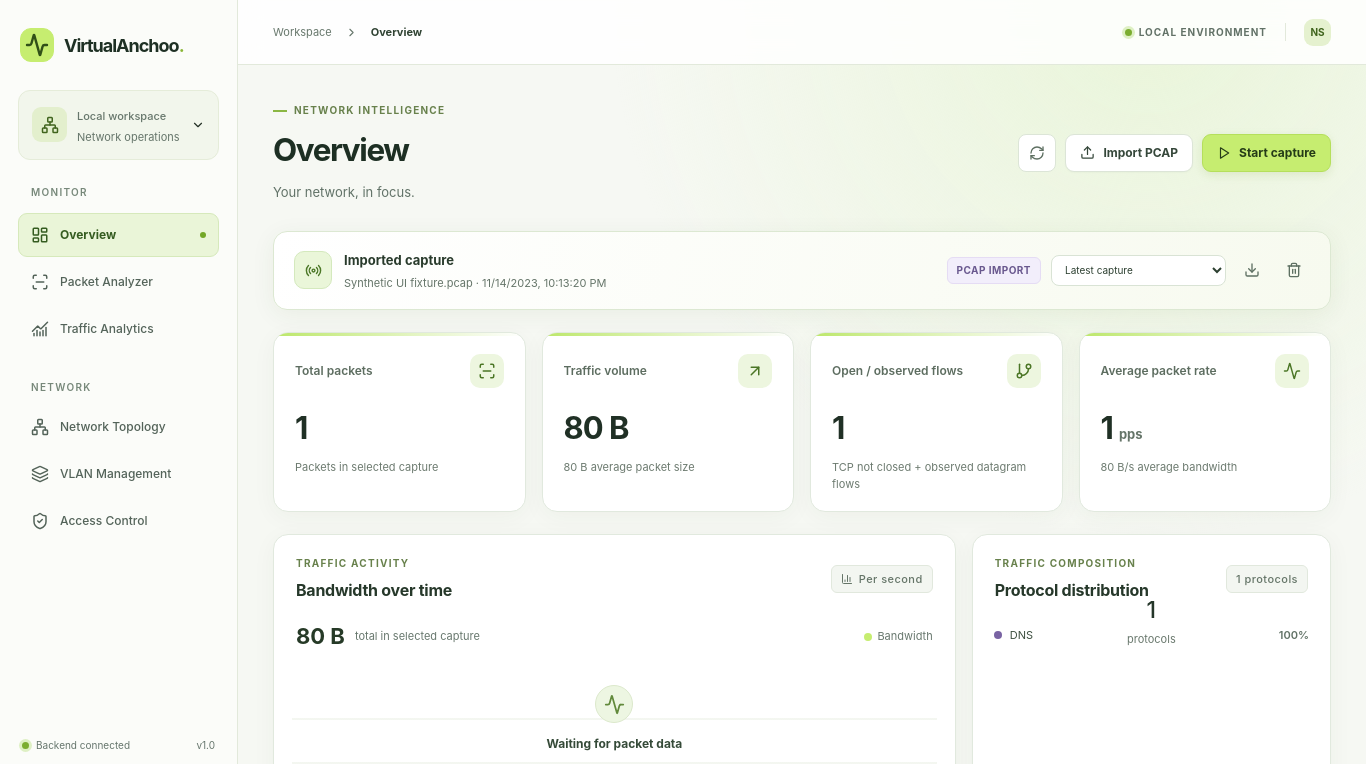
dashboard API contracts › requires consent and displays capture permission failure
This screenshot has width=1366, height=764.
Expected: the text "Backend connected" is shown, [36,738,130,753]
Click the button "Start capture". click: (1266, 153)
box: [1202,134,1331,172]
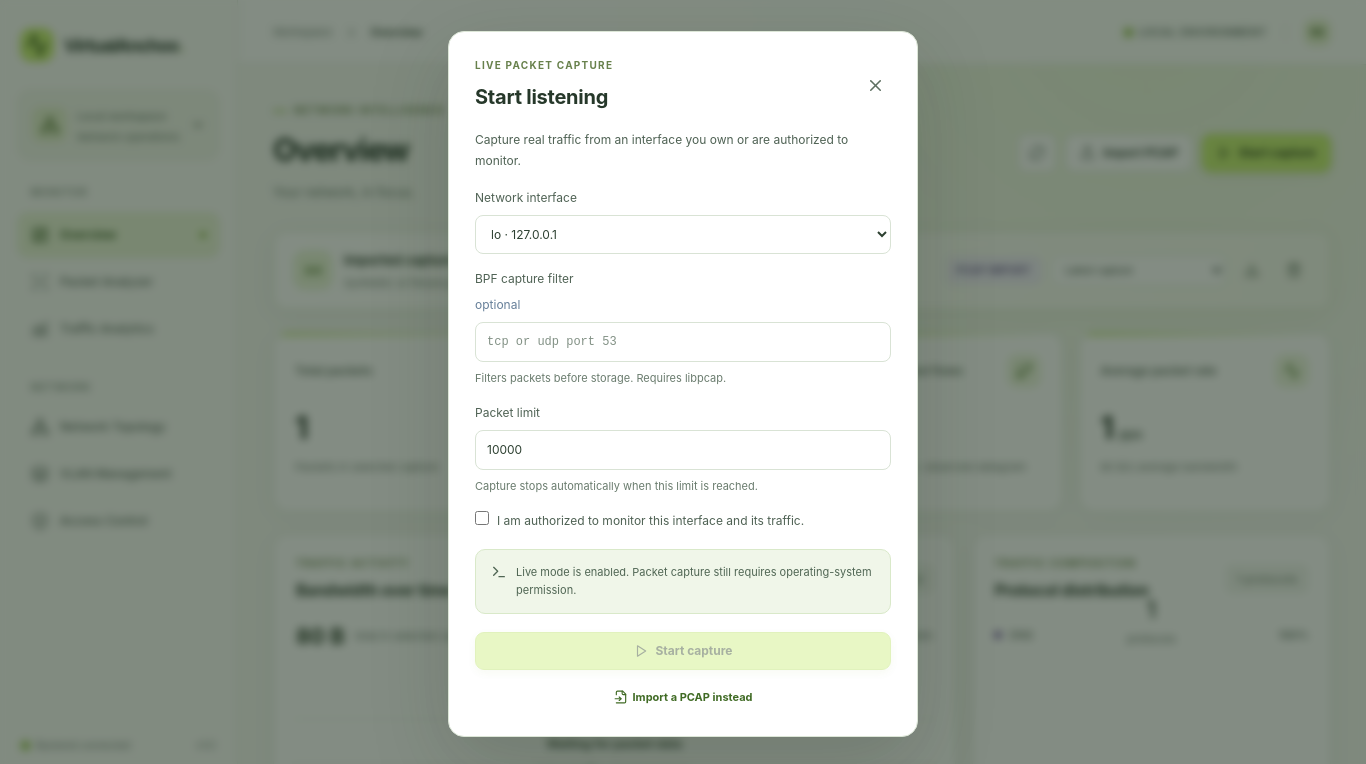
Now the button "Start capture" is disabled, box [475,632,891,670]
Click the checkbox. click: (482, 518)
box: [475,512,489,526]
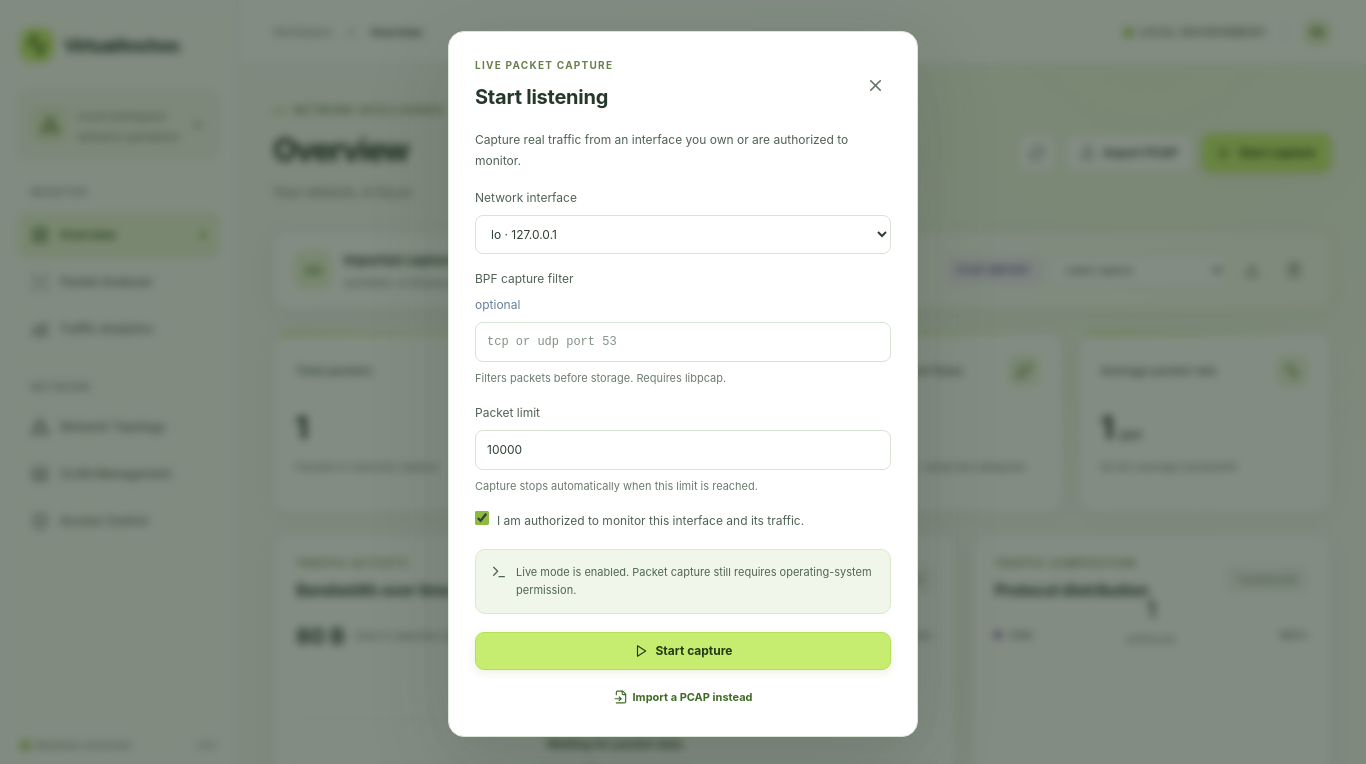
Click the button "Start capture". click: (683, 651)
box: [475,632,891,670]
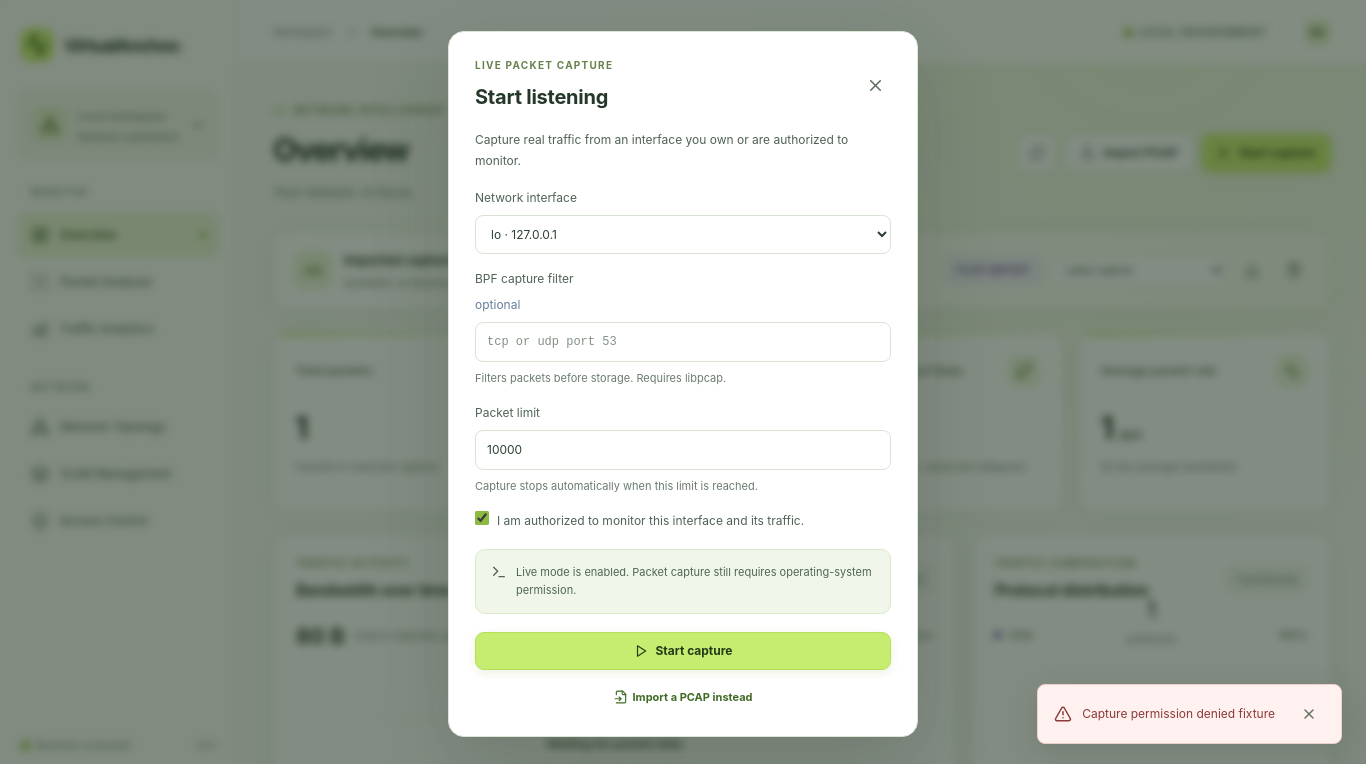
Now the message reads "Capture permission denied fixture", box [1082,706,1275,721]
